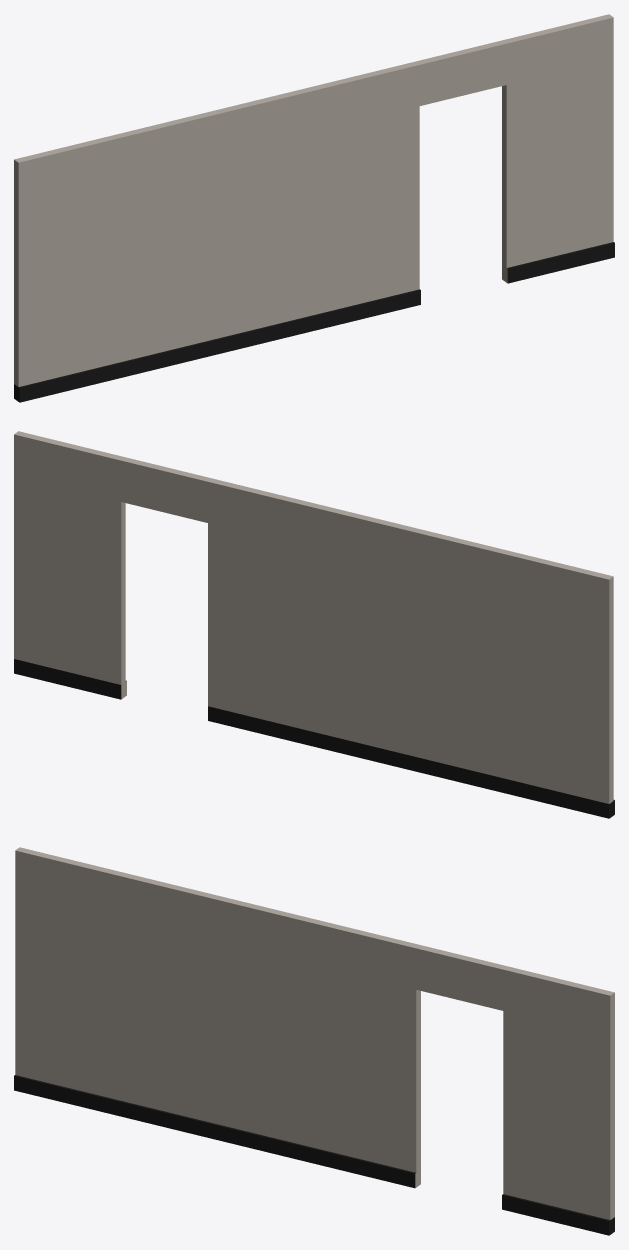
File: Wall 1.FBX
The picture shows the model from 3 angles, top to bottom: view 1: azimuth 30°, elevation 25°; view 2: azimuth 150°, elevation 25°; view 3: azimuth 330°, elevation 25°; orthographic projection.
Visible parts, largest first — view 1: Wall 1; view 2: Wall 1; view 3: Wall 1.
Boxes of the visible parts, x1=… form: Wall 1: x1=14, y1=14, x2=614, y2=402; Wall 1: x1=14, y1=431, x2=614, y2=818; Wall 1: x1=14, y1=847, x2=614, y2=1235.
Size of the model in its own units: 7816 by 3000 by 129.
Materials: 1 (1 with a texture image).
